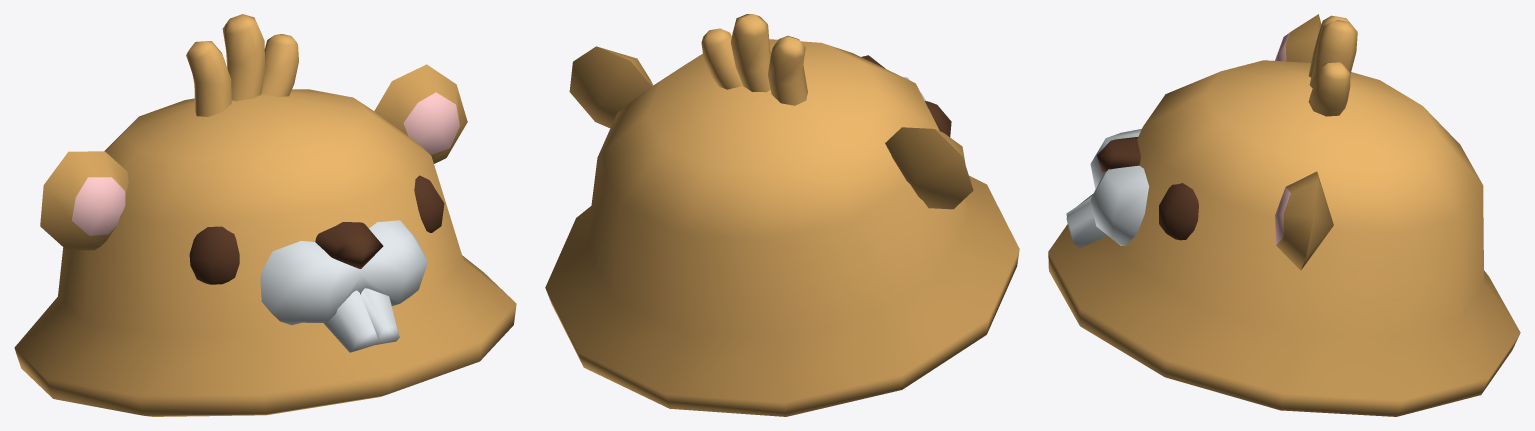
File: Headgear_18.fbx
The picture shows the model from 3 angles, left to right: view 1: azimuth 30°, elevation 25°; view 2: azimuth 150°, elevation 25°; view 3: azimuth 270°, elevation 25°; orthographic projection. The views are drawn at different scales.
Parts seen in each view (by area): view 1: Headgear_18; view 2: Headgear_18; view 3: Headgear_18.
Boxes of the visible parts, left/top/right/bottom form: Headgear_18: left=14, top=14, right=516, bottom=416; Headgear_18: left=545, top=14, right=1019, bottom=416; Headgear_18: left=1048, top=14, right=1520, bottom=416.
Size of the model in its own units: 81.02 by 62.21 by 79.61.
